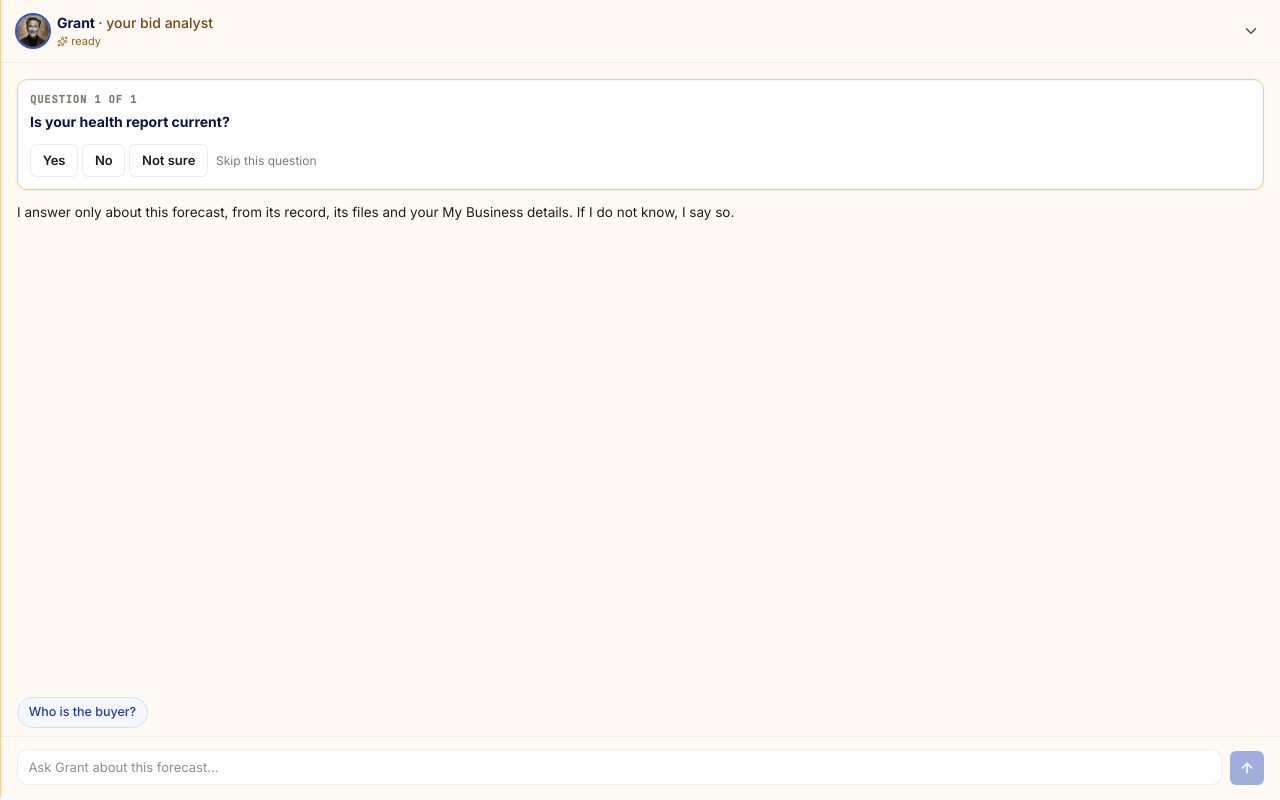
Test: ForecastGrantRail — questions › treats Not sure as no answer: the page does not change and the question stays open
Click the button "Not sure": (169, 161) [129,144,208,178]
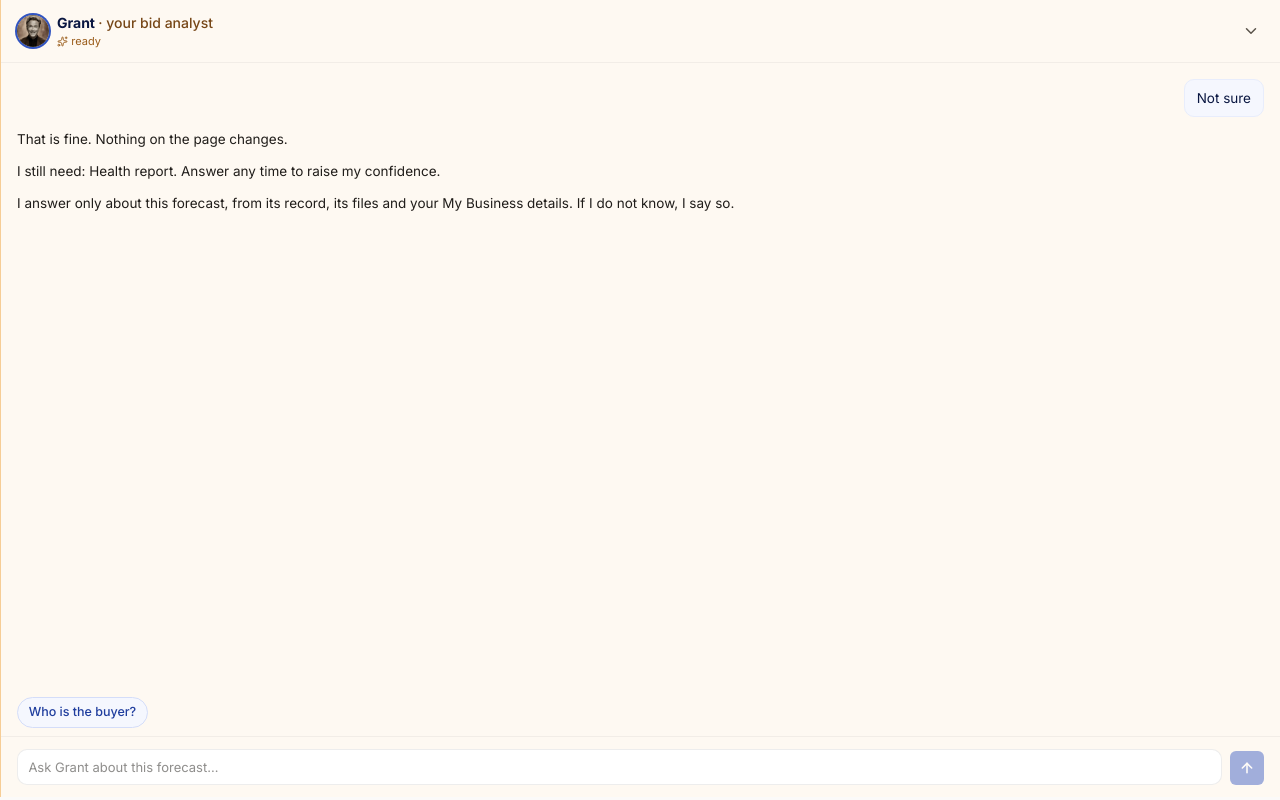
Result: the text "That is fine. Nothing on the page changes." is shown at [17,131,288,147]
